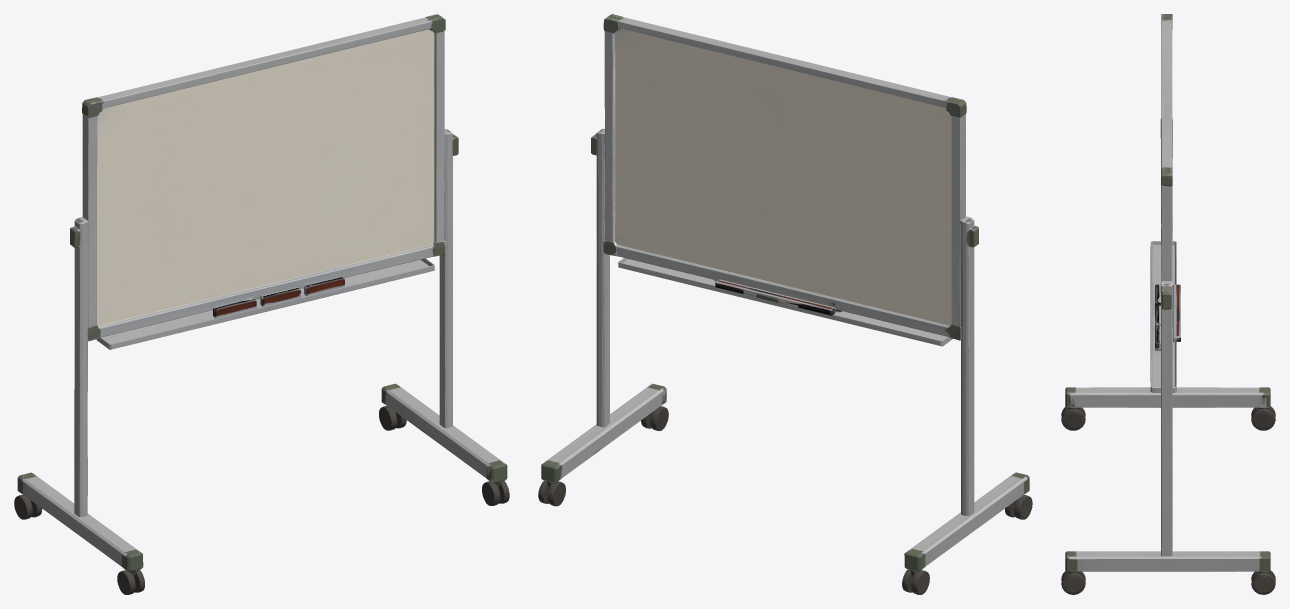
Rendered from whiteboard_stand.glb.
The picture shows the model from 3 angles, left to right: view 1: azimuth 30°, elevation 25°; view 2: azimuth 150°, elevation 25°; view 3: azimuth 270°, elevation 25°; orthographic projection. The views are drawn at different scales.
Visible parts, largest first — view 1: whiteboard_stand; view 2: whiteboard_stand; view 3: whiteboard_stand.
Boxes of the visible parts, x1,y1,x2,y2 form: whiteboard_stand: (14,14,509,594); whiteboard_stand: (538,14,1032,594); whiteboard_stand: (1061,14,1275,594).
Size of the model in its own units: 1.65 by 1.85 by 0.8627.
Materials: 1 (1 with a texture image).
